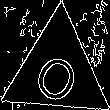O_NE: (28, 38, 86, 103)
